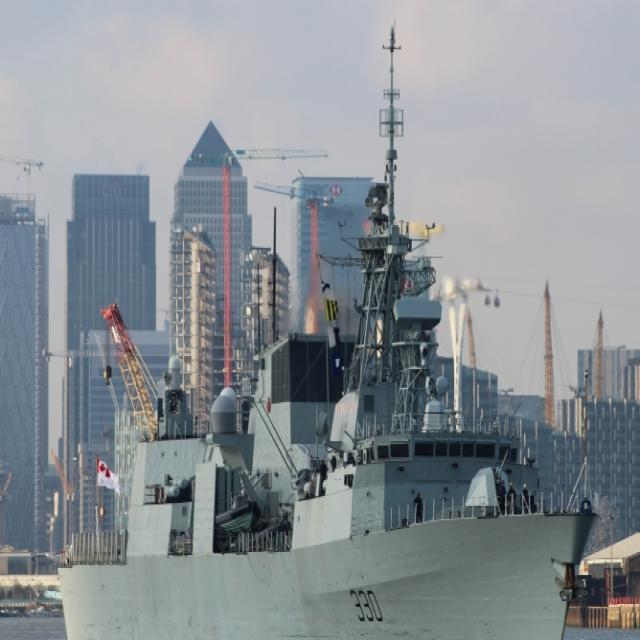Fragata: (54, 7, 612, 640)
